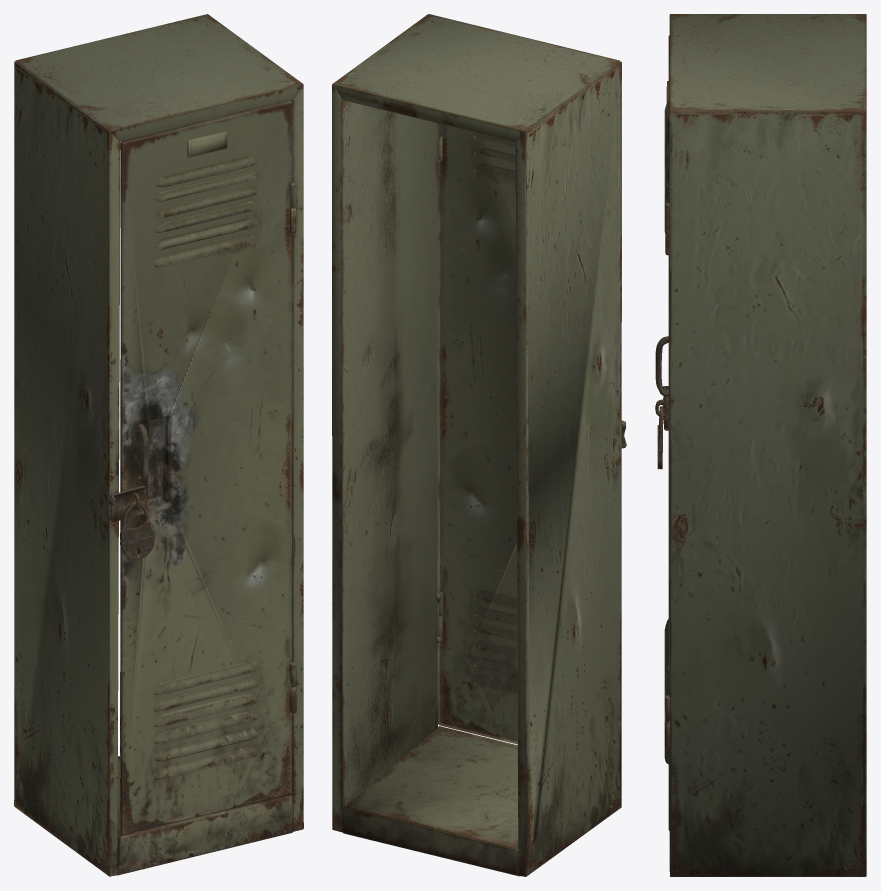
Rendered from silo81_locker.glb.
The picture shows the model from 3 angles, left to right: view 1: azimuth 30°, elevation 25°; view 2: azimuth 150°, elevation 25°; view 3: azimuth 270°, elevation 25°; orthographic projection. The views are drawn at different scales.
Size of the model in its own units: 0.2617 by 0.9502 by 0.2368.
Materials: 1 (1 with a texture image).
